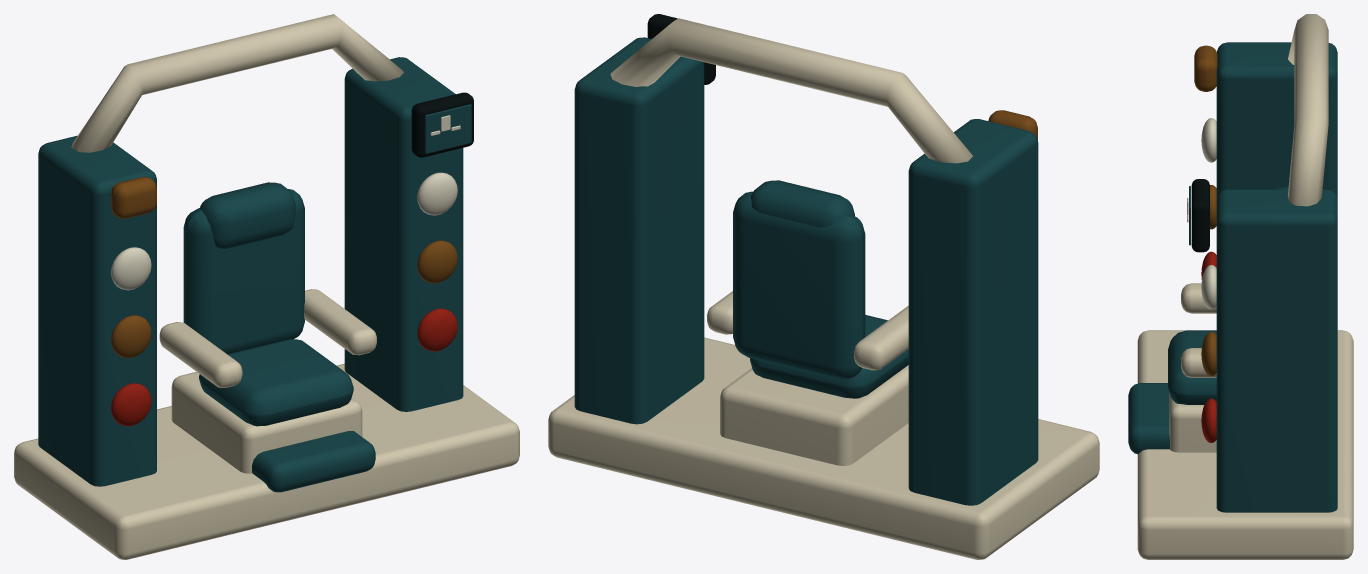
File: sensory.glb
The picture shows the model from 3 angles, left to right: view 1: azimuth 30°, elevation 25°; view 2: azimuth 150°, elevation 25°; view 3: azimuth 270°, elevation 25°; orthographic projection. The views are drawn at different scales.
Parts seen in each view (by area): view 1: Apparatus; view 2: Apparatus; view 3: Apparatus.
Boxes of the visible parts, x1=… form: Apparatus: x1=14, y1=14, x2=519, y2=559; Apparatus: x1=548, y1=14, x2=1099, y2=559; Apparatus: x1=1128, y1=14, x2=1353, y2=559.
Bounding box in the file's own units: 1.74 × 1.69 × 0.855.
